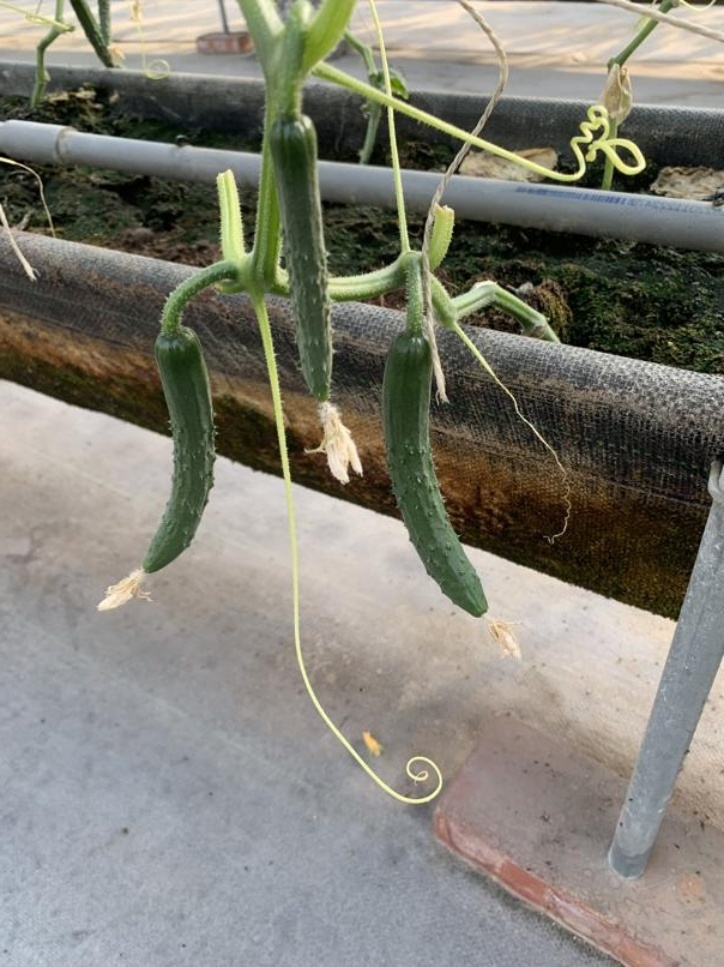growth: (252, 105, 349, 506)
mature: (90, 324, 216, 606), (388, 324, 497, 626)
